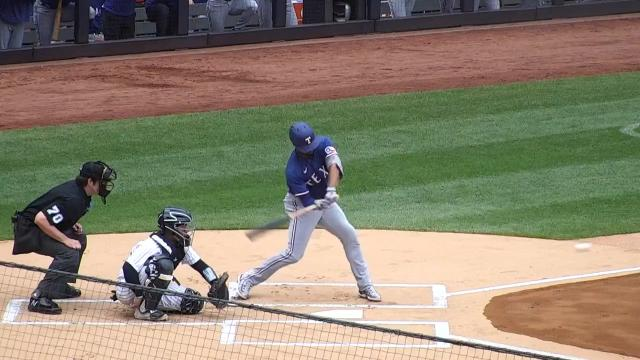baseball bat: (246, 204, 316, 242)
sports ball: (573, 241, 597, 253)
